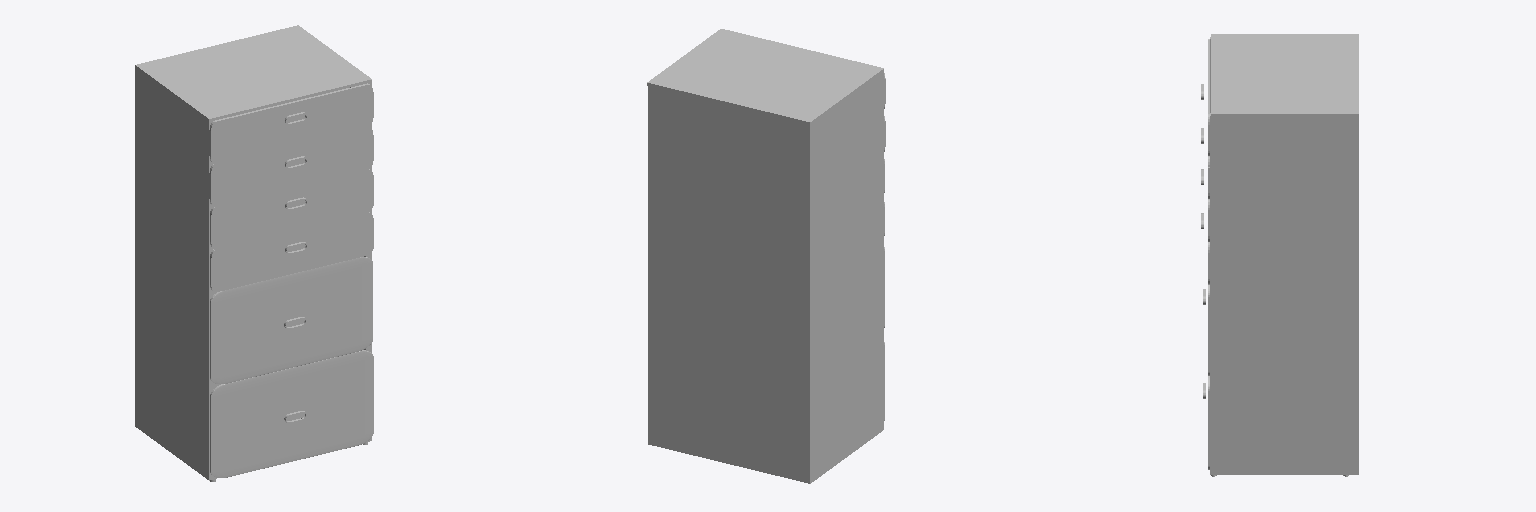
File: StorageFurniture_StuvaFritidsSixDrawersPink.obj
3 renders of one model, left to right at view 1: azimuth 30°, elevation 25°; view 2: azimuth 150°, elevation 25°; view 3: azimuth 270°, elevation 25°, orthographic.
Visible parts, largest first — view 1: obj_0; view 2: obj_0; view 3: obj_0.
Boxes of the visible parts, <box> form: obj_0: <box>135,25,373,481</box>; obj_0: <box>647,29,885,483</box>; obj_0: <box>1201,34,1358,476</box>.
Size of the model in its own units: 60 by 128 by 50.